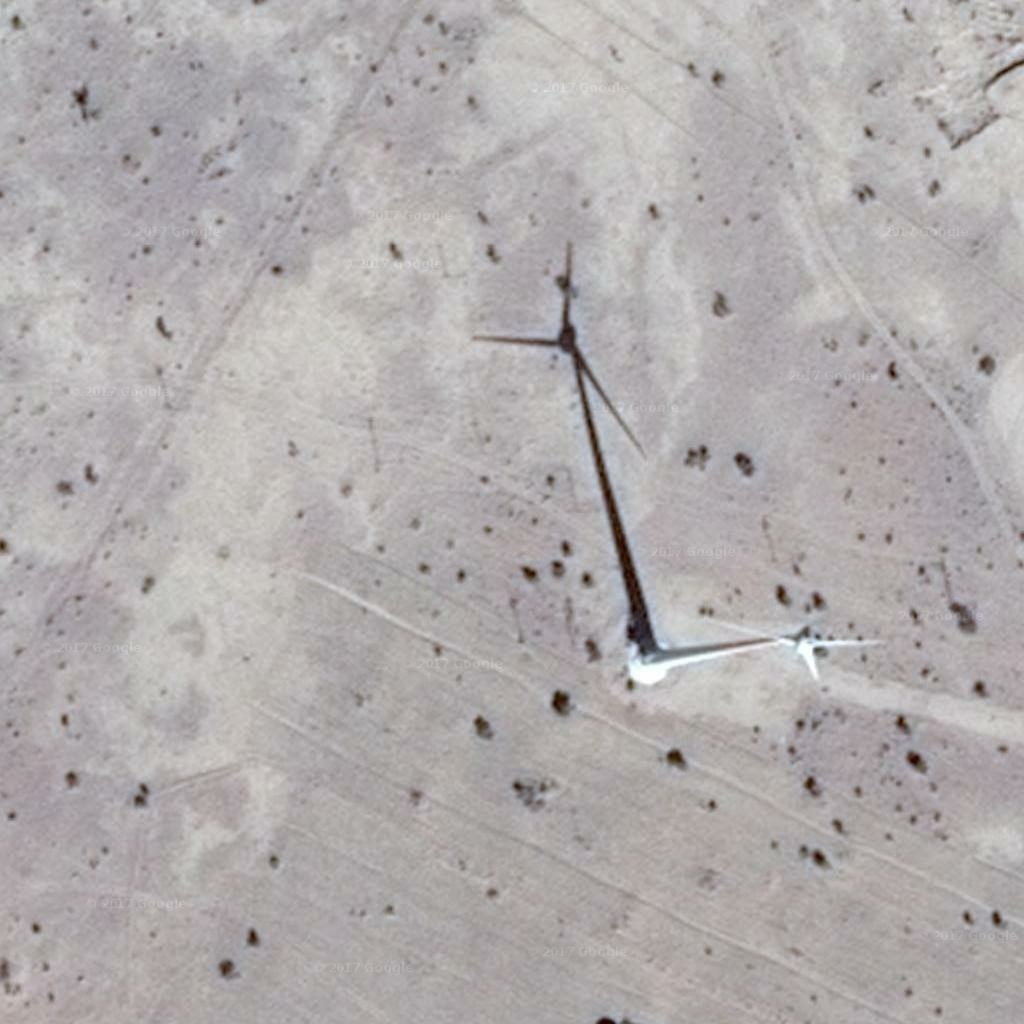Windmill: (462, 249, 685, 651)
